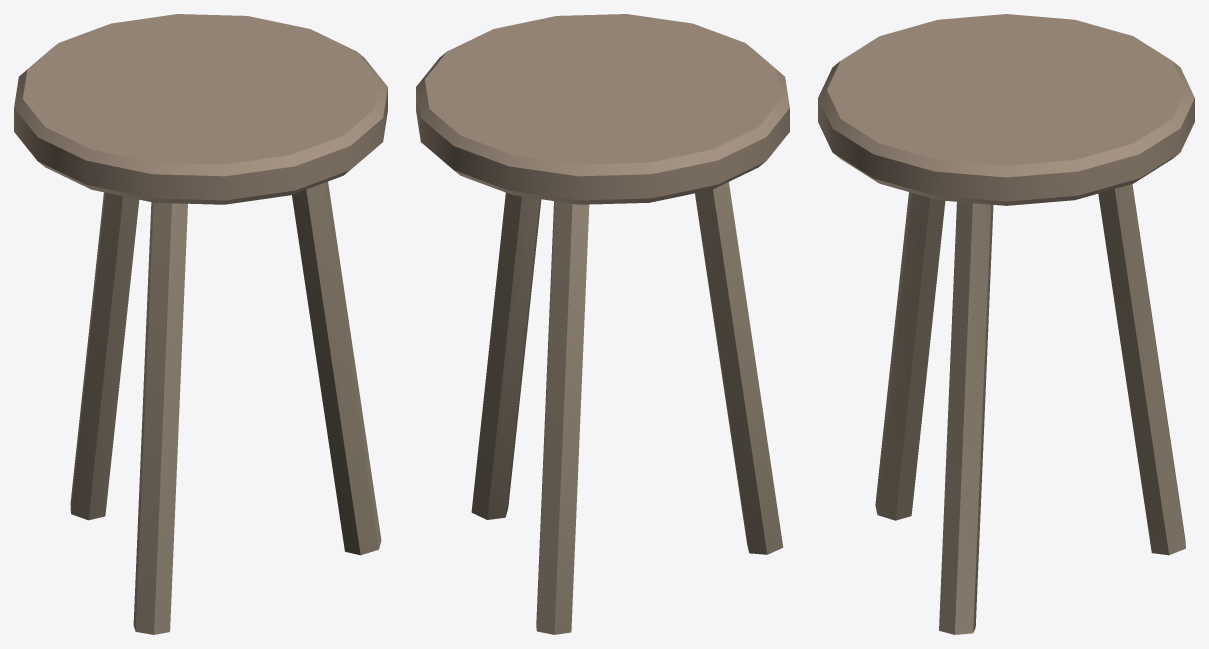
Rendered from camp_stool.glb.
The picture shows the model from 3 angles, left to right: view 1: azimuth 30°, elevation 25°; view 2: azimuth 150°, elevation 25°; view 3: azimuth 270°, elevation 25°; orthographic projection.
Parts seen in each view (by area): view 1: static; view 2: static; view 3: static.
Part boxes in pixels (bbox=[...]): static: bbox=[14, 14, 387, 634]; static: bbox=[416, 14, 789, 634]; static: bbox=[818, 14, 1194, 634].
Bounding box in the file's own units: 0.34 × 0.4724 × 0.34.
